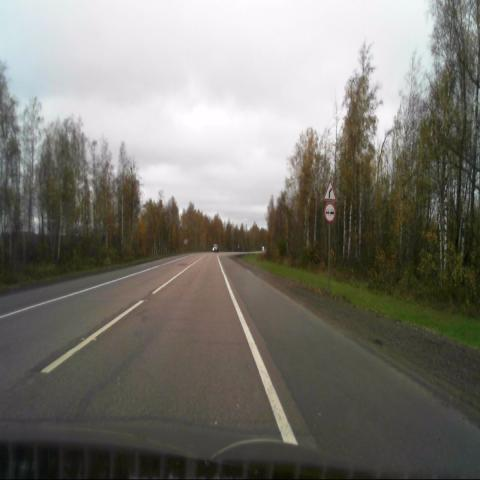3_20: (324, 202, 336, 223)
